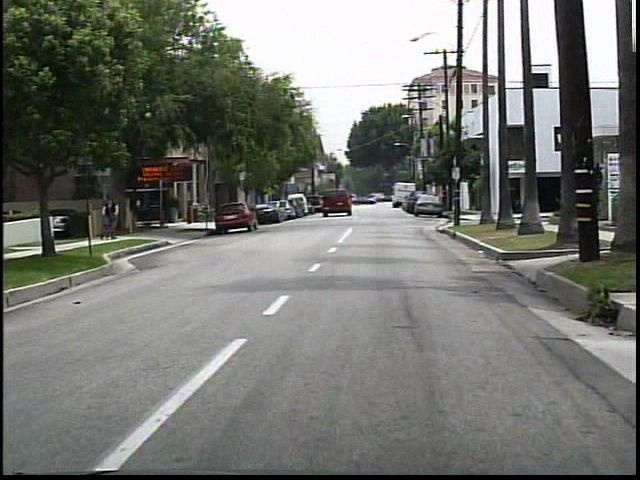person: (97, 192, 122, 242)
